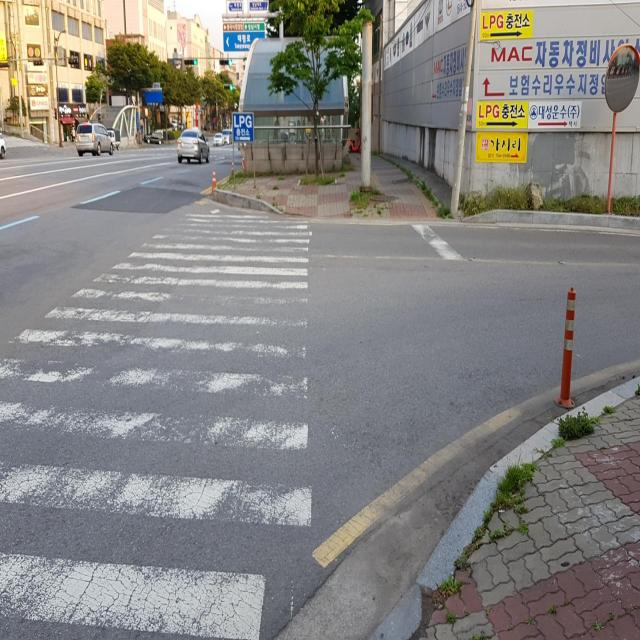횡단보도: (0, 207, 314, 639)
